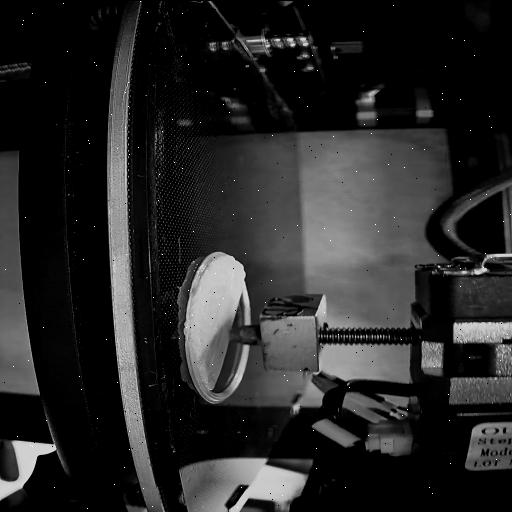over_extrusion: (206, 252, 258, 278)
